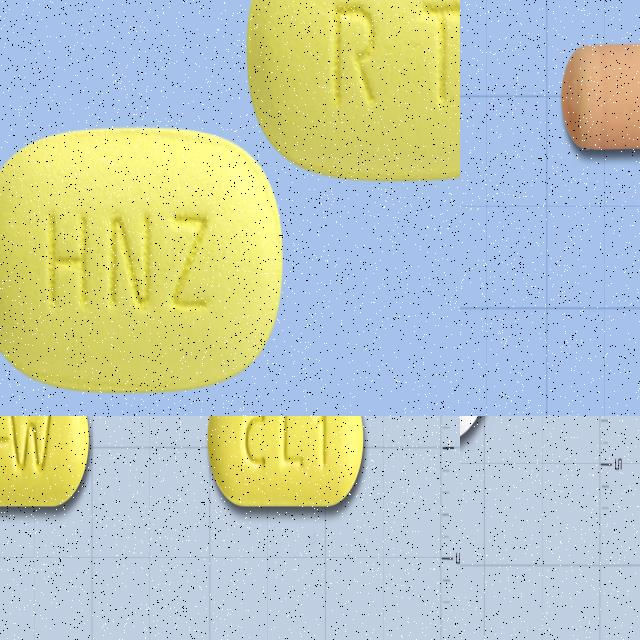Cefixime Cap- Mothers: (559, 37, 640, 154)
Claniz - 500mg: (0, 122, 287, 396), (245, 0, 460, 183)
Clearmycin: (206, 416, 364, 508), (0, 416, 88, 508)
